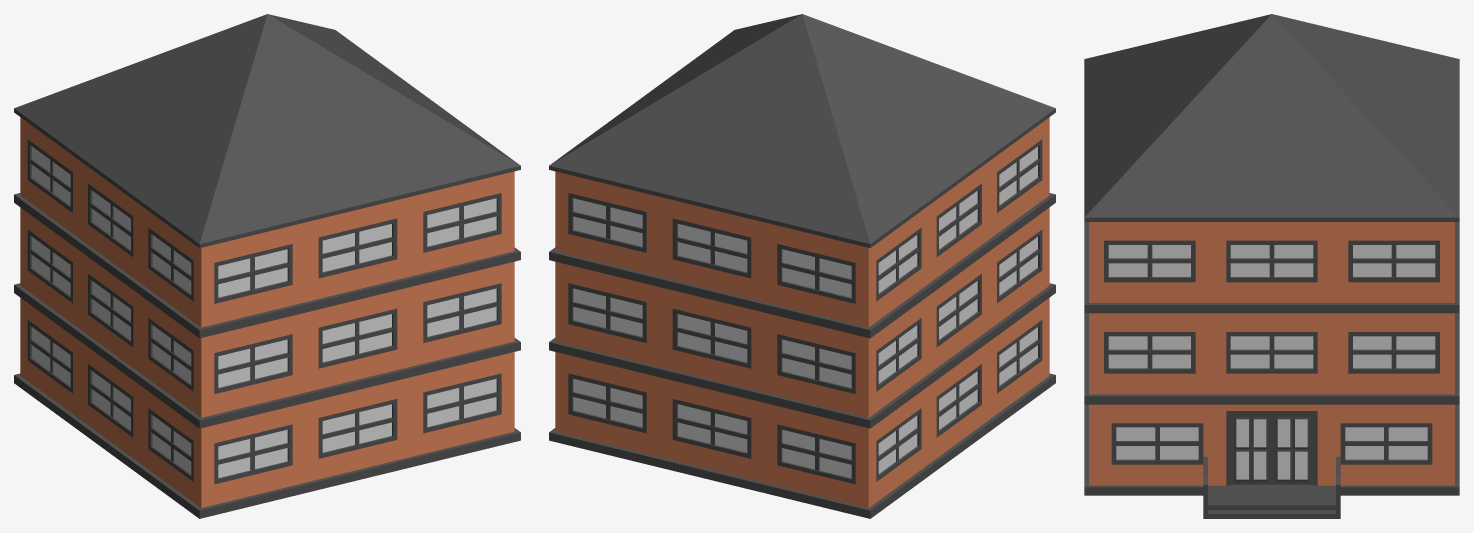
File: medium building 3.fbx
The picture shows the model from 3 angles, left to right: view 1: azimuth 30°, elevation 25°; view 2: azimuth 150°, elevation 25°; view 3: azimuth 270°, elevation 25°; orthographic projection.
Visible parts, largest first — view 1: building_001; view 2: building_001; view 3: building_001.
Boxes of the visible parts, bbox=[...] form: building_001: bbox=[14, 14, 520, 518]; building_001: bbox=[549, 14, 1055, 518]; building_001: bbox=[1084, 14, 1459, 518].
Bounding box in the file's own units: 940 × 970 × 820.
